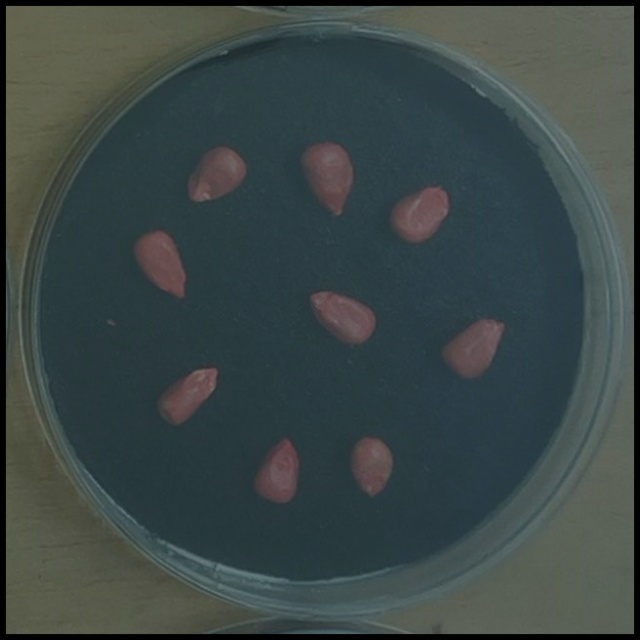Zea mays: (300, 281, 383, 353), (124, 221, 194, 306), (293, 135, 359, 224), (149, 358, 225, 435), (382, 177, 458, 252), (431, 315, 510, 387), (178, 139, 254, 212), (245, 432, 307, 513), (342, 431, 398, 505)
